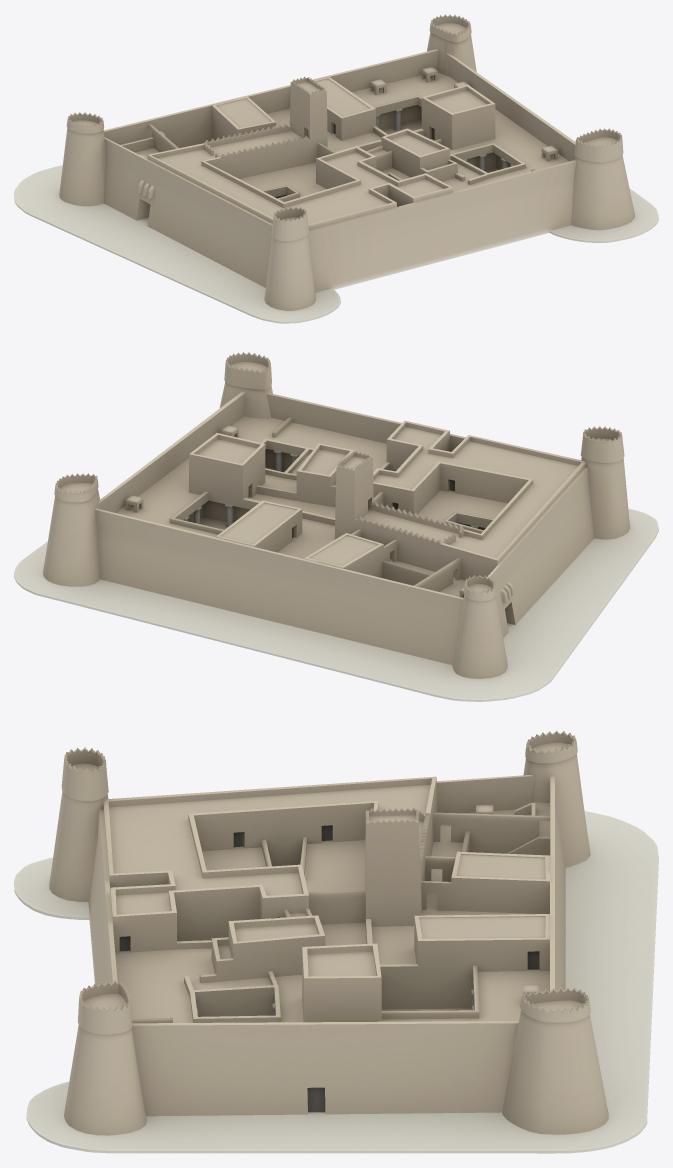
3 views of the same model, one above another, from view 1: azimuth 30°, elevation 25°; view 2: azimuth 150°, elevation 25°; view 3: azimuth 270°, elevation 25° (orthographic). The views are drawn at different scales.
Visible parts, largest first — view 1: AlMasmakPalaceNight_Mesh.002; view 2: AlMasmakPalaceNight_Mesh.002; view 3: AlMasmakPalaceNight_Mesh.002.
Part boxes in pixels (left/top/right/bottom): AlMasmakPalaceNight_Mesh.002: left=14, top=14, right=658, bottom=323; AlMasmakPalaceNight_Mesh.002: left=14, top=352, right=658, bottom=701; AlMasmakPalaceNight_Mesh.002: left=14, top=730, right=658, bottom=1153.
Bounding box in the file's own units: 79.92 × 17.76 × 63.7.
Materials: 1 (1 with a texture image).
